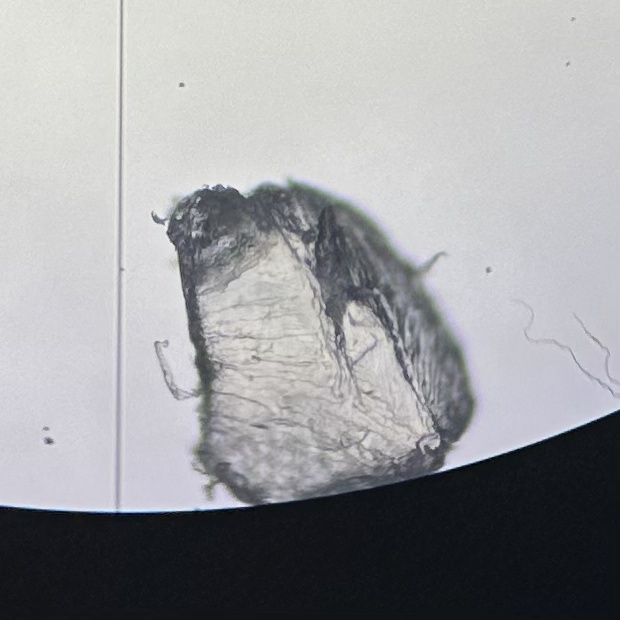microplastic: (145, 174, 481, 508)
